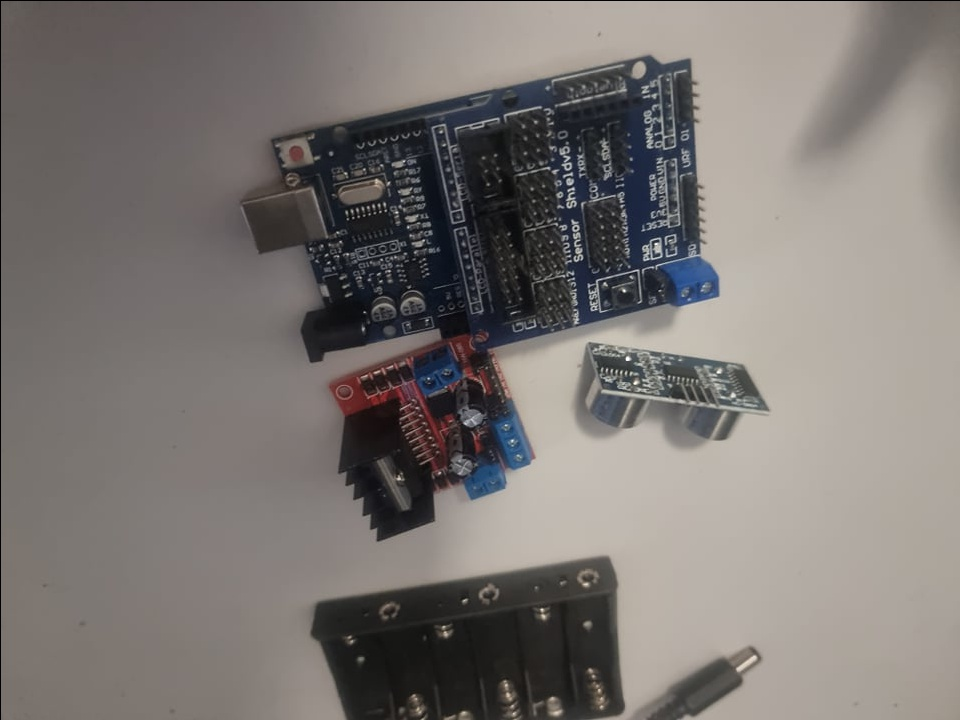5V EXPANSION: (438, 67, 732, 351)
BATTERY BOX: (309, 555, 627, 716)
MOTOR: (304, 333, 526, 540)
SENSOR: (576, 333, 774, 453)
UNO R3: (212, 120, 427, 361)
